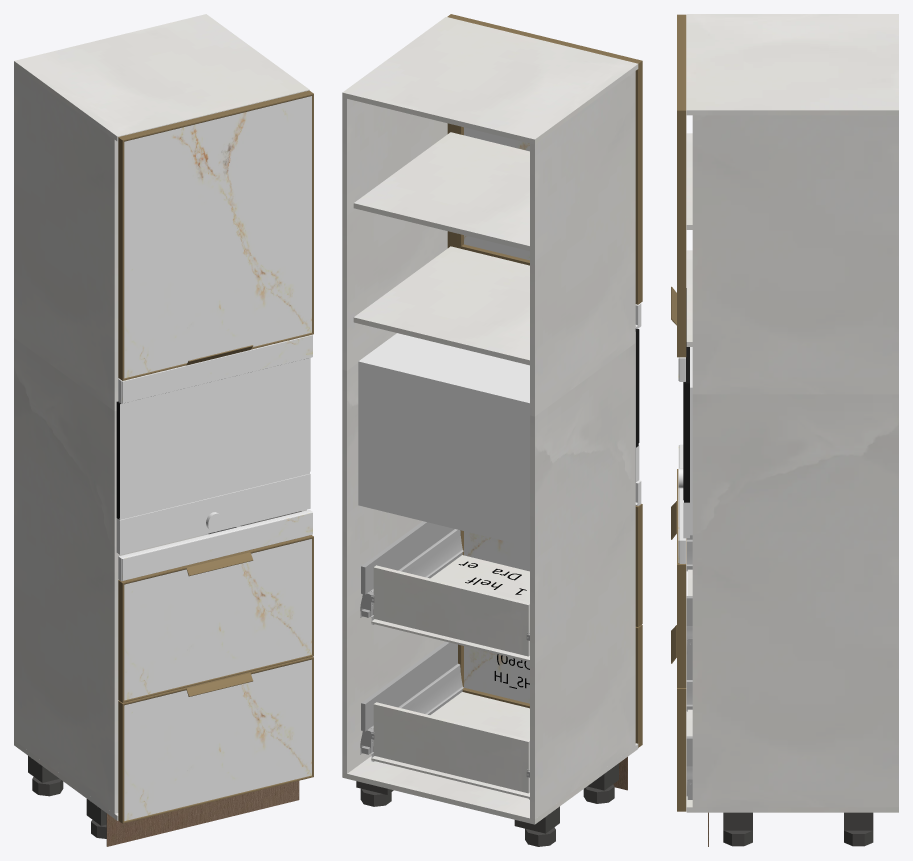
Rendered from TC-MW-TTS-ST-1SX-2HB-LHS-600-2040-560-15.glb.
The picture shows the model from 3 angles, left to right: view 1: azimuth 30°, elevation 25°; view 2: azimuth 150°, elevation 25°; view 3: azimuth 270°, elevation 25°; orthographic projection. The views are drawn at different scales.
Parts seen in each view (by area): view 1: TP_node_0, Object_node_75, SKP_Component1_node_1, Object_node_73, Object_node_71, TP, TP_node_8, TP_node_9, Object_node_77, Extrusion_node_18, Extrusion_node_17, Extrusion_node_4 (+5 smaller); view 2: TP_node_0, SKP_Component0_node_0, TP_node_1, TP, TP_node_6, TP_node_7, TP_node_3, TP_node_5, TP_node, TP_node_2, TP_node_4, Object_node_39 (+10 smaller); view 3: TP_node_1, TP, Extrusion_node_16, TP_node, Extrusion_node_2, Extrusion_node_9, SKP_Component0_node_1, Extrusion_node_17, TP_node_6, TP_node_7, SKP_Component0_node_0, Plate_node_1 (+3 smaller).
Part boxes in pixels (x1,y1,x2,y2): TP_node_0: [14, 66, 119, 813]; Object_node_75: [124, 96, 311, 378]; SKP_Component1_node_1: [116, 358, 310, 554]; Object_node_73: [124, 539, 311, 700]; Object_node_71: [124, 659, 311, 820]; TP: [14, 14, 309, 141]; TP_node_8: [122, 512, 312, 580]; TP_node_9: [122, 335, 312, 403]; Object_node_77: [106, 781, 299, 846]; Extrusion_node_18: [118, 137, 124, 380]; Extrusion_node_17: [118, 90, 313, 141]; Extrusion_node_4: [118, 701, 124, 823]; TP_node_0: [530, 71, 635, 819]; SKP_Component0_node_0: [358, 333, 529, 546]; TP_node_1: [342, 97, 447, 773]; TP: [342, 17, 638, 144]; TP_node_6: [353, 246, 529, 365]; TP_node_7: [353, 132, 529, 250]; TP_node_3: [373, 702, 529, 793]; TP_node_5: [373, 565, 529, 656]; TP_node: [342, 743, 638, 824]; TP_node_2: [371, 692, 529, 798]; TP_node_4: [371, 555, 529, 661]; Object_node_39: [361, 641, 457, 731]; TP_node_1: [692, 115, 898, 807]; TP: [686, 14, 898, 115]; Extrusion_node_16: [677, 110, 686, 357]; TP_node: [686, 711, 898, 812]; Extrusion_node_2: [677, 689, 686, 811]; Extrusion_node_9: [677, 565, 686, 687]; SKP_Component0_node_1: [683, 288, 689, 502]; Extrusion_node_17: [677, 14, 686, 110]; TP_node_6: [686, 250, 692, 346]; TP_node_7: [686, 133, 692, 229]; SKP_Component0_node_0: [690, 347, 692, 535]; Plate_node_1: [723, 812, 752, 830].
Size of what is drawn, in the model's own units: 0.6 by 2.14 by 0.6.
9 materials, 3 textured.
